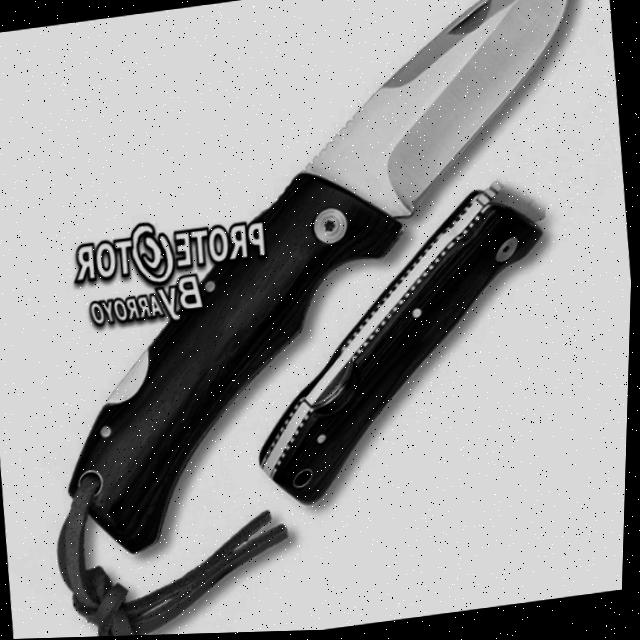knife: (15, 0, 633, 563), (230, 170, 579, 520)
